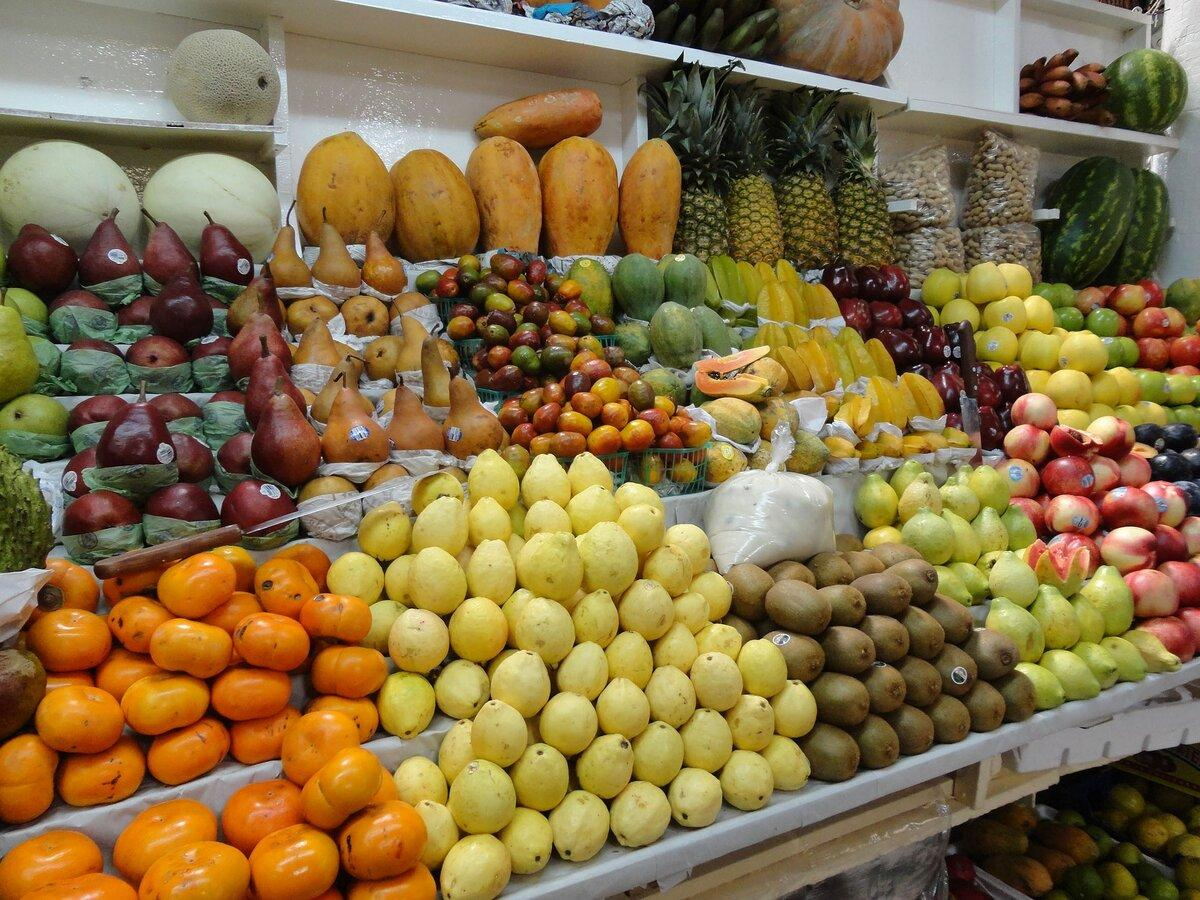green apple: (933, 265, 1087, 351), (1027, 352, 1200, 421)
melon: (292, 87, 676, 248), (1, 133, 279, 257), (166, 27, 287, 131)
pear: (29, 220, 289, 506), (271, 216, 484, 453), (971, 568, 1142, 687), (864, 464, 1021, 563)
pineapple: (651, 75, 893, 268)
pumpkin: (775, 0, 906, 73)
red apple: (909, 327, 1004, 421), (828, 266, 930, 336)
watermelon: (1044, 154, 1169, 285), (1103, 43, 1187, 134)
